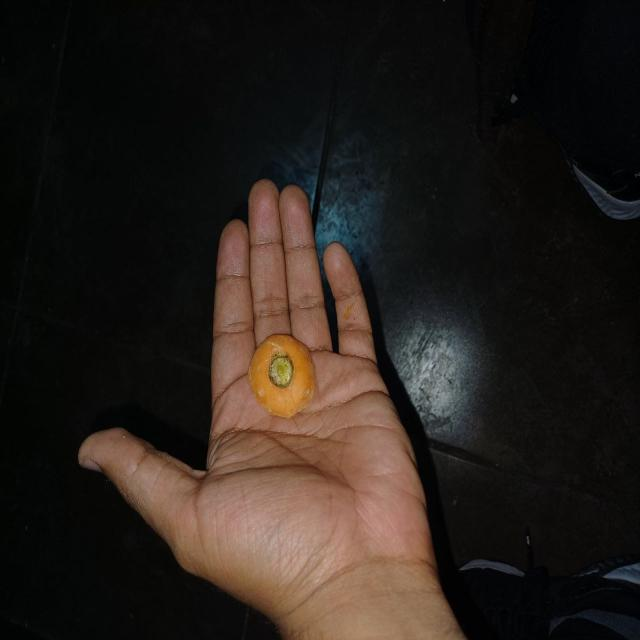organic: (250, 333, 316, 419)
